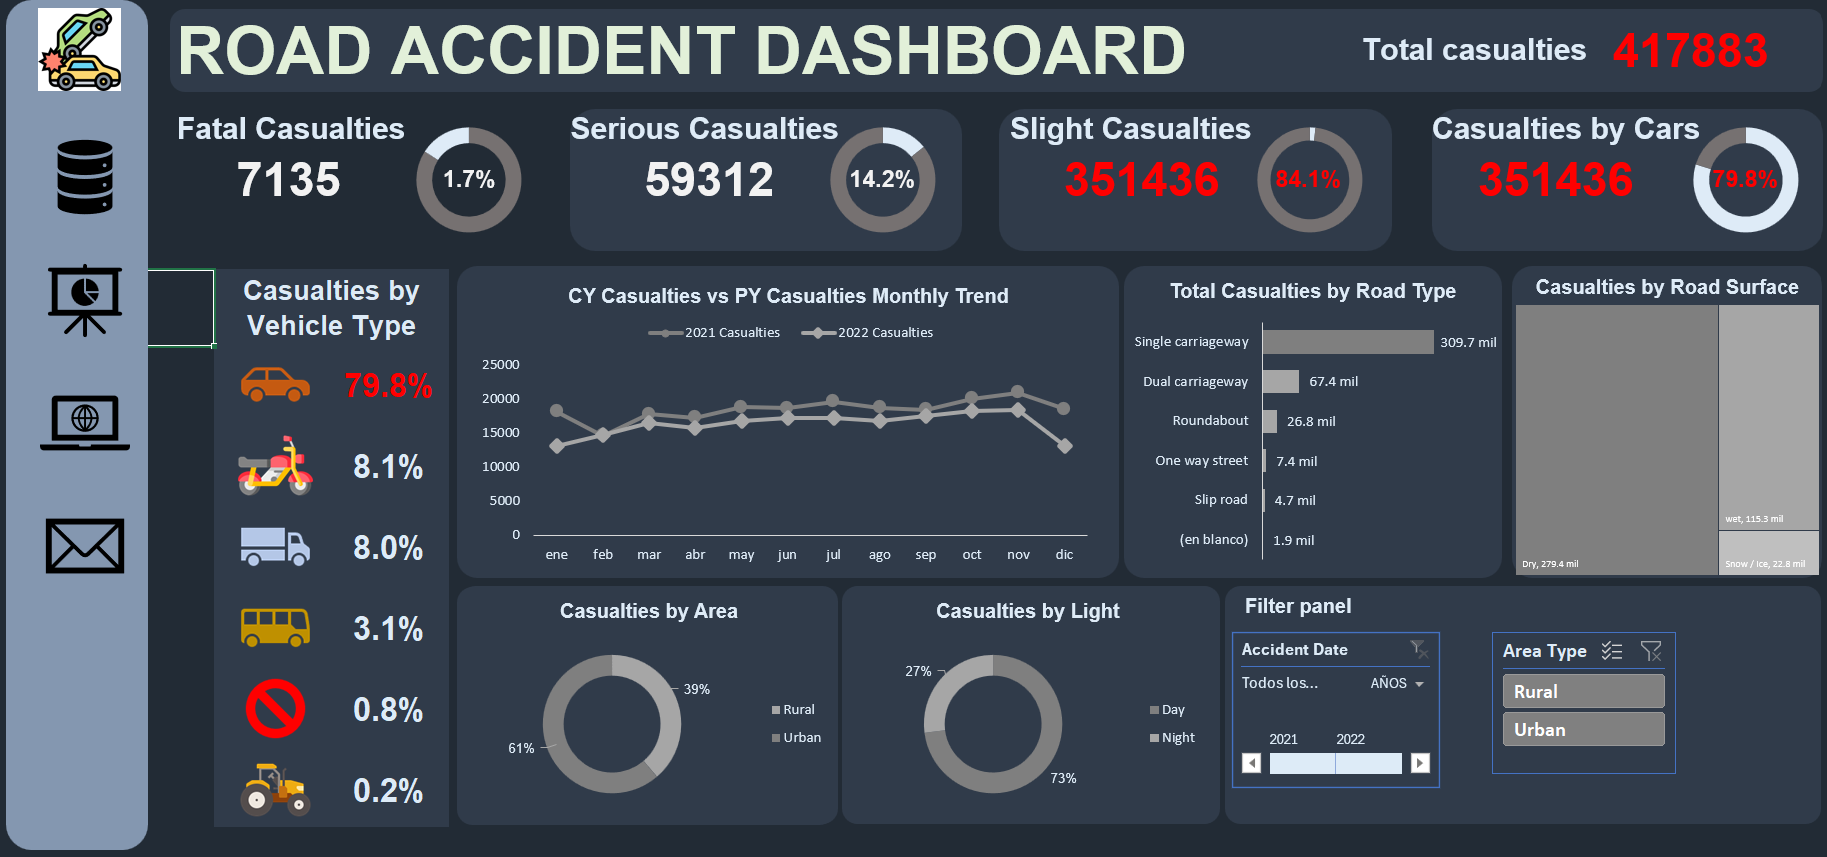

What the dashboard file says about the page in this screenshot:
{"tool":"powerbi","page":{"name":"Página 1","canvas":[1920,1080],"ordinal":0},"visuals":[{"type":"card","title":"Total CY Casualties","fields":{"Values":["Measures (2).CY casualties"]},"box":[21.7,141.2,347.5,126.7],"z":0},{"type":"card","fields":{"Values":["Measures (2).YoY Casualties"]},"box":[110.4,255.2,139.3,54.3],"z":1000},{"type":"card","title":"Total CY Accidents","fields":{"Values":["Measures (2).CY Accidents Counts"]},"box":[396.5,138.1,347.5,126.7],"z":2000},{"type":"card","fields":{"Values":["Measures (2).YoY Accidents"]},"box":[485.2,252.1,139.3,54.3],"z":3000},{"type":"card","title":"CY Fatal Casualties","fields":{"Values":["Measures (2).CY casualties"]},"box":[783.1,139.6,347.5,126.7],"z":4000},{"type":"card","fields":{"Values":["Measures (2).YoY Casualties"]},"box":[871.8,253.6,139.3,54.3],"z":5000},{"type":"card","title":"CY Serious Casualties","fields":{"Values":["Measures (2).CY casualties"]},"box":[1168.5,139.7,347.5,126.7],"z":6000},{"type":"card","fields":{"Values":["Measures (2).YoY Casualties"]},"box":[1257.2,253.7,139.3,54.3],"z":7000},{"type":"card","title":"CY Slight Casualties","fields":{"Values":["Measures (2).CY casualties"]},"box":[1545.7,139.8,347.5,126.7],"z":8000},{"type":"card","fields":{"Values":["Measures (2).YoY Casualties"]},"box":[1634.4,253.8,139.3,54.3],"z":9000},{"type":"textbox","box":[21.7,14.5,937.4,99.5],"z":10000},{"type":"multiRowCard","fields":{"Values":["Data.Vehicle_Type (grupos)","Measures (2).CY casualties"]},"box":[181,412.6,204.5,557.4],"z":11000},{"type":"image","box":[70.6,845.1,110.4,88.7],"z":12000},{"type":"image","box":[85.1,589.9,95.9,79.6],"z":13000},{"type":"image","box":[65.1,673.2,124.9,92.3],"z":14000},{"type":"image","box":[61.5,416.2,128.5,86.9],"z":15000},{"type":"image","box":[72.4,765.5,110.4,76],"z":16000},{"type":"image","box":[72.4,503.1,132.1,103.2],"z":17000},{"type":"textbox","box":[47.1,354.7,309.5,45.2],"z":18000},{"type":"areaChart","title":"CY Casualties vs PY Casualties Monthly Trend","fields":{"Category":["Calendar.Month"],"Y":["Sum(Data.Number_of_Casualties)"],"Series":["Calendar.Date.Variación.Jerarquía de fechas.Año"]},"box":[396.3,333,669.6,340.2],"z":19000},{"type":"donutChart","title":"Casualties por Urban / Rural","fields":{"Category":["Data.Urban_or_Rural_Area"],"Y":["Measures (2).CY casualties"]},"box":[1096.7,333,360.1,340.2],"z":20000},{"type":"donutChart","title":"Casualties by light conditions","fields":{"Y":["Measures (2).CY casualties"],"Category":["Data.Light_Conditions (grupos) 2"]},"box":[1096.7,704,360.1,340.2],"z":21000},{"type":"barChart","title":"Casualties by Road Type","fields":{"Category":["Data.Road_Type"],"Y":["Measures (2).CY casualties"]},"box":[396.3,704,669.6,340.2],"z":22000},{"type":"map","title":"Casualty by Location","fields":{"Y":["Data.Latitude"],"X":["Data.Longitude"],"Category":["Data.Local_Authority_(District)"]},"box":[1485.7,333,407.2,711.2],"z":23000},{"type":"slicer","fields":{"Values":["Data.Weather_Conditions (grupos)"]},"box":[1596.1,25.3,284.1,81.4],"z":24000},{"type":"slicer","fields":{"Values":["Data.Road_Surface_Conditions (grupos)"]},"box":[1312,25.3,284.1,81.4],"z":25000}]}

Visuals, with their boxes on the page's 1920x1080 design canvas (x1, y1, x2, y2). These are canvas units, not pixel positions in the 1827x857 screenshot, which may show the page scaled, cropped or inside an application window:
"Total CY Casualties" card: [22,141,369,268]
card - Measures (2).YoY Casualties: [110,255,250,310]
"Total CY Accidents" card: [396,138,744,265]
card - Measures (2).YoY Accidents: [485,252,624,306]
"CY Fatal Casualties" card: [783,140,1131,266]
card - Measures (2).YoY Casualties: [872,254,1011,308]
"CY Serious Casualties" card: [1168,140,1516,266]
card - Measures (2).YoY Casualties: [1257,254,1396,308]
"CY Slight Casualties" card: [1546,140,1893,266]
card - Measures (2).YoY Casualties: [1634,254,1774,308]
textbox: [22,14,959,114]
multiRowCard - Data.Vehicle_Type (grupos) x Measures (2).CY casualties: [181,413,386,970]
image: [71,845,181,934]
image: [85,590,181,670]
image: [65,673,190,766]
image: [62,416,190,503]
image: [72,766,183,842]
image: [72,503,204,606]
textbox: [47,355,357,400]
"CY Casualties vs PY Casualties Monthly Trend" areaChart: [396,333,1066,673]
"Casualties por Urban / Rural" donutChart: [1097,333,1457,673]
"Casualties by light conditions" donutChart: [1097,704,1457,1044]
"Casualties by Road Type" barChart: [396,704,1066,1044]
"Casualty by Location" map: [1486,333,1893,1044]
slicer - Data.Weather_Conditions (grupos): [1596,25,1880,107]
slicer - Data.Road_Surface_Conditions (grupos): [1312,25,1596,107]
